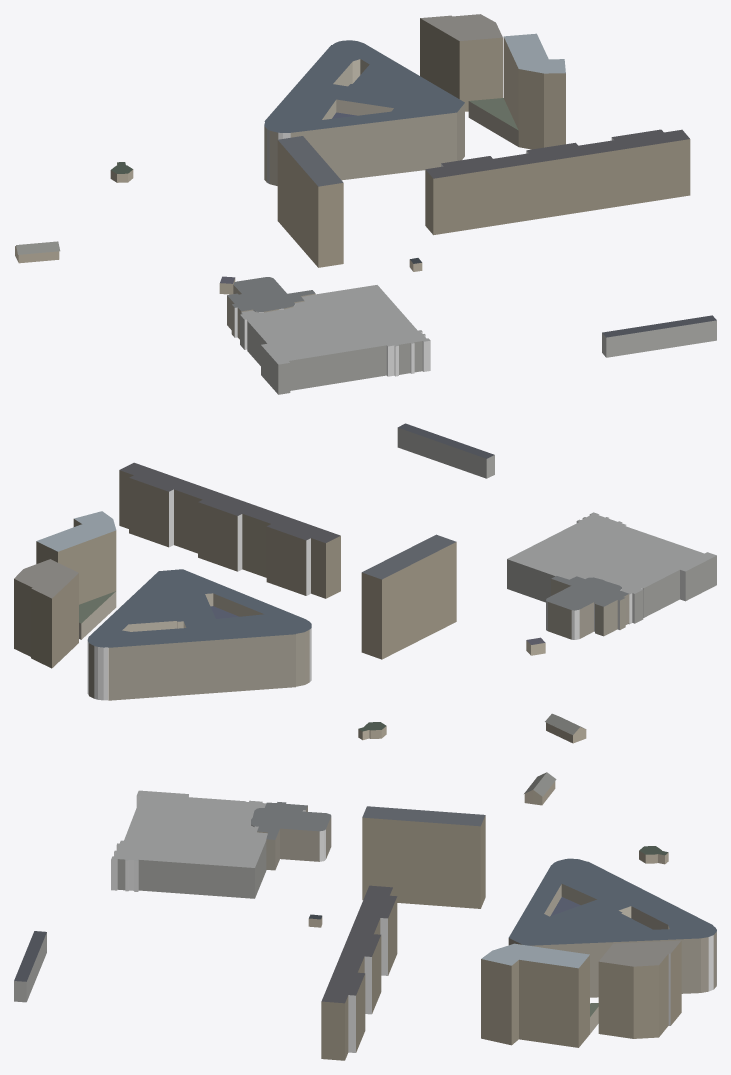
3 renders of one model, top to bottom at view 1: azimuth 30°, elevation 25°; view 2: azimuth 150°, elevation 25°; view 3: azimuth 270°, elevation 25°, orthographic. The views are drawn at different scales.
Parts seen in each view (by area): view 1: tuile; view 2: tuile; view 3: tuile.
Part boxes in pixels (x1=…): tuile: x1=15, y1=14, x2=716, y2=394; tuile: x1=14, y1=423, x2=716, y2=743; tuile: x1=14, y1=772, x2=716, y2=1060.
Bounding box in the file's own units: 253 × 37.76 × 266.
